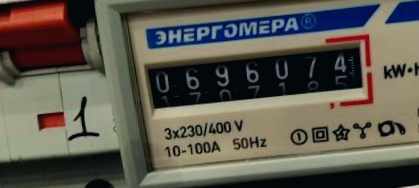0: (150, 68, 171, 93), (271, 54, 290, 81)
4: (329, 49, 347, 72)
5: (333, 73, 350, 90)
6: (243, 57, 262, 84), (182, 65, 201, 90)
7: (301, 52, 321, 79)
9: (212, 61, 230, 88)
screen: (132, 29, 378, 121)
